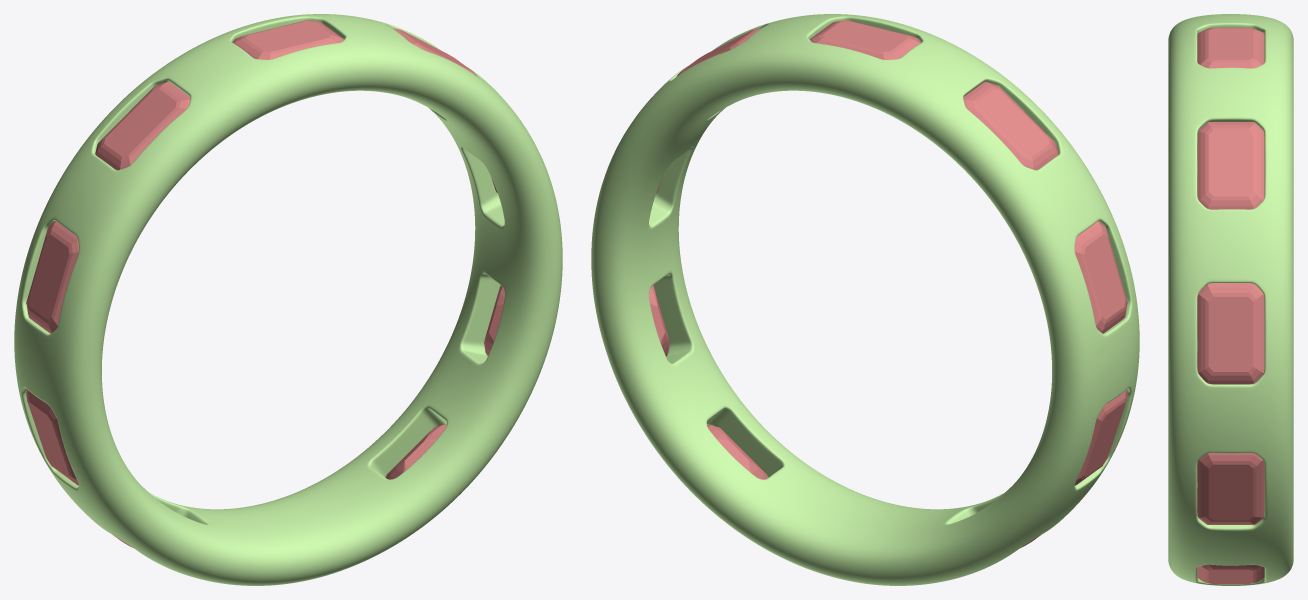
Rendered from BE2D581_RENDER.glb.
3 renders of one model, left to right at view 1: azimuth 30°, elevation 25°; view 2: azimuth 150°, elevation 25°; view 3: azimuth 270°, elevation 25°, orthographic. The views are drawn at different scales.
Visible parts, largest first — view 1: Metal03, Diamond_Emerald_Gem_BD.001, Diamond_Emerald_Gem_BD.002, Diamond_Emerald_Gem_BD, Diamond_Emerald_Gem_BD.003, Diamond_Emerald_Gem_BD.006; view 2: Metal03, Diamond_Emerald_Gem_BD.001, Diamond_Emerald_Gem_BD.002, Diamond_Emerald_Gem_BD, Diamond_Emerald_Gem_BD.003, Diamond_Emerald_Gem_BD.006; view 3: Metal03, Diamond_Emerald_Gem_BD.008, Diamond_Emerald_Gem_BD.009, Diamond_Emerald_Gem_BD.007, Diamond_Emerald_Gem_BD, Diamond_Emerald_Gem_BD.006.
Boxes of the visible parts, left/top/right/bottom form: Metal03: left=14, top=14, right=562, bottom=585; Diamond_Emerald_Gem_BD.001: left=95, top=81, right=190, bottom=170; Diamond_Emerald_Gem_BD.002: left=26, top=221, right=78, bottom=333; Diamond_Emerald_Gem_BD: left=232, top=20, right=343, bottom=59; Diamond_Emerald_Gem_BD.003: left=26, top=389, right=78, bottom=485; Diamond_Emerald_Gem_BD.006: left=386, top=424, right=446, bottom=479; Metal03: left=591, top=14, right=1139, bottom=585; Diamond_Emerald_Gem_BD.001: left=963, top=81, right=1058, bottom=170; Diamond_Emerald_Gem_BD.002: left=1074, top=221, right=1127, bottom=333; Diamond_Emerald_Gem_BD: left=809, top=20, right=921, bottom=59; Diamond_Emerald_Gem_BD.003: left=1074, top=389, right=1127, bottom=485; Diamond_Emerald_Gem_BD.006: left=707, top=424, right=767, bottom=479; Metal03: left=1168, top=14, right=1293, bottom=585; Diamond_Emerald_Gem_BD.008: left=1197, top=283, right=1264, bottom=384; Diamond_Emerald_Gem_BD.009: left=1197, top=122, right=1264, bottom=209; Diamond_Emerald_Gem_BD.007: left=1197, top=452, right=1264, bottom=524; Diamond_Emerald_Gem_BD: left=1197, top=27, right=1264, bottom=68; Diamond_Emerald_Gem_BD.006: left=1197, top=564, right=1264, bottom=584.
Bounding box in the file's own units: 20.49 × 20.27 × 4.5.
